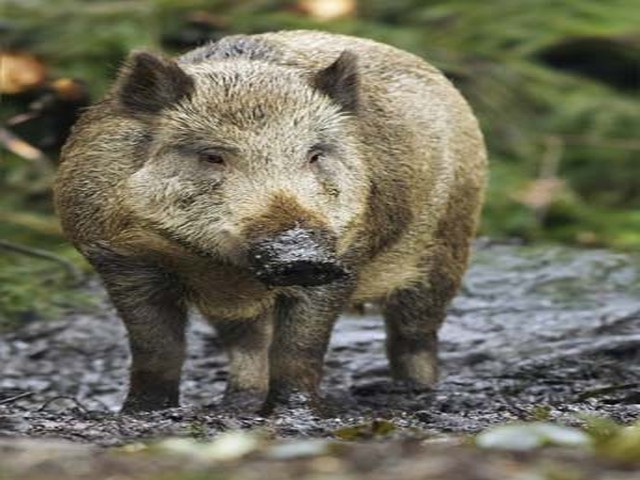Pig: (51, 25, 490, 412)
